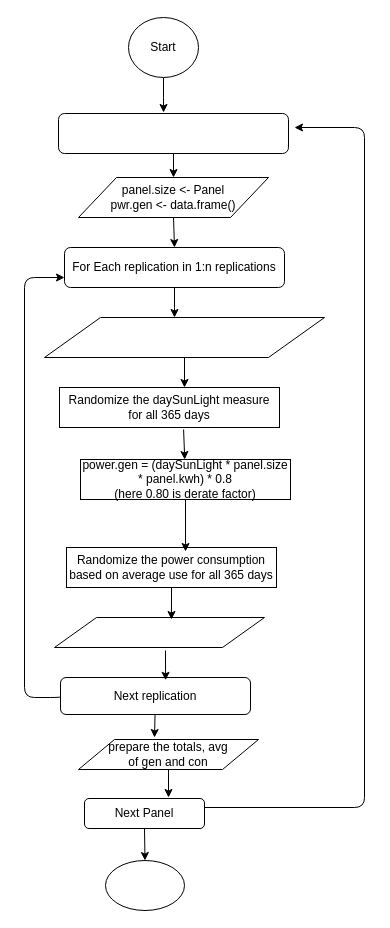
Some shapes in this 390 by 928 pixel diagram are drawn without their labels. The shapes that lost their labels are listed below. From the top down, each one's centre as x and y in pixels, then its label:
the point at 173,133: For Each Panel in Panels(5:40, by=5)
the point at 184,337: panel.kwh = rtrianlge(365, 0.20, 0.27, 0.25)
the point at 159,632: prepare the summaries gen and con
the point at 144,885: Stop
